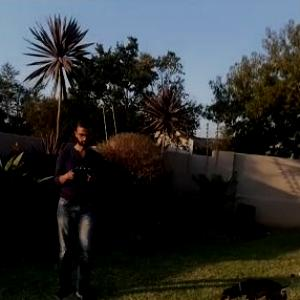follow: (48, 110, 106, 299)
null: (216, 266, 298, 299)
